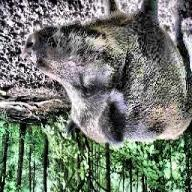boar: (20, 1, 191, 148)
